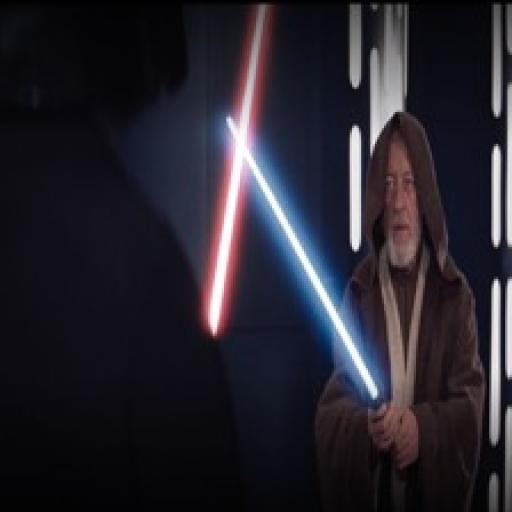human: (316, 102, 512, 512)
lightsaber: (224, 121, 409, 449)
sith saber: (197, 5, 267, 362)
